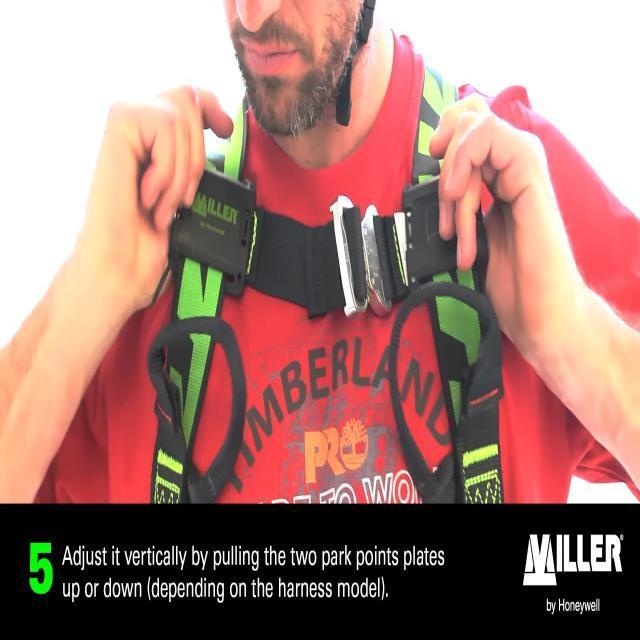Arnes_seguridad: (139, 71, 513, 509)
